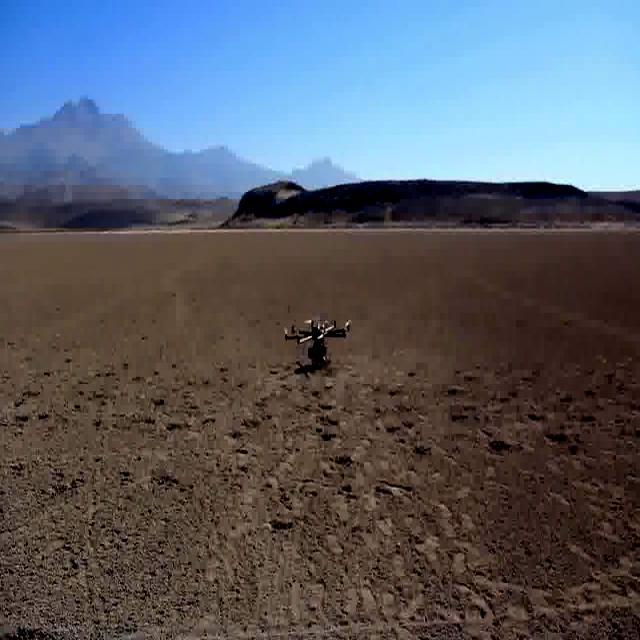drone: (280, 310, 352, 368)
